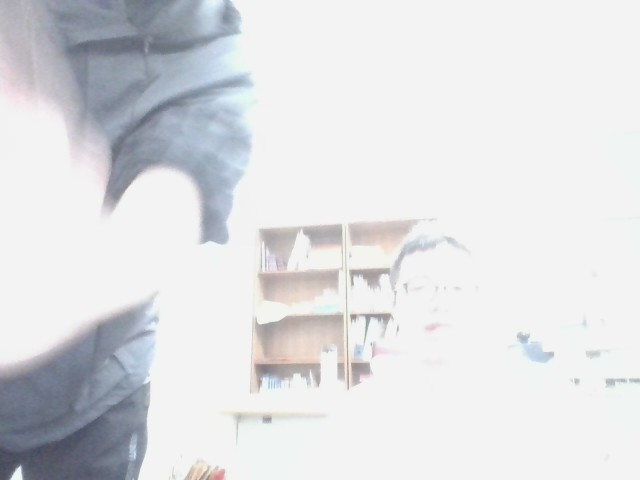person: (0, 0, 293, 479)
